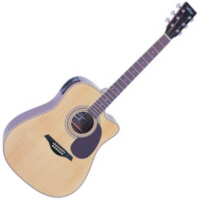guitar: (2, 2, 197, 198)
